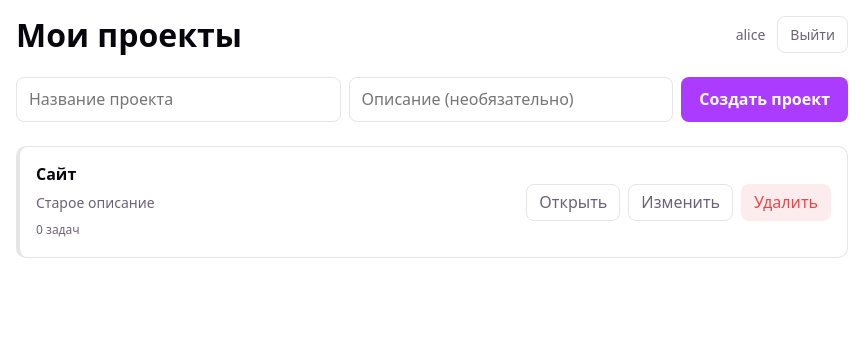
Test: Projects page › edits a project and reflects the update in the card
Click the button "Изменить" at [681, 202], box [628, 184, 733, 221]
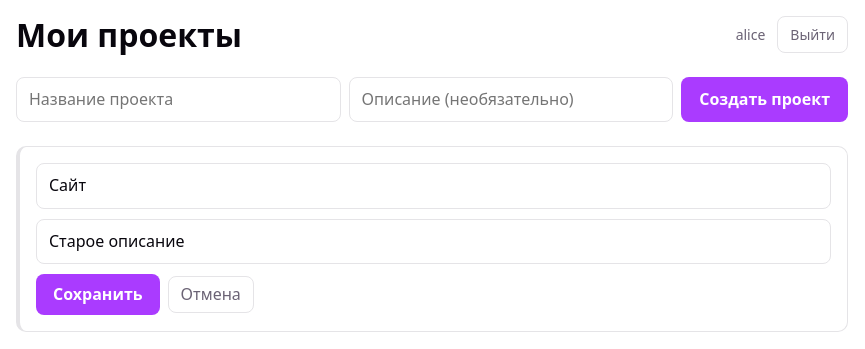
Replace the text in the 1st field with placeholder "Название проекта" with "Новый сайт" at [434, 186], box [36, 163, 831, 209]
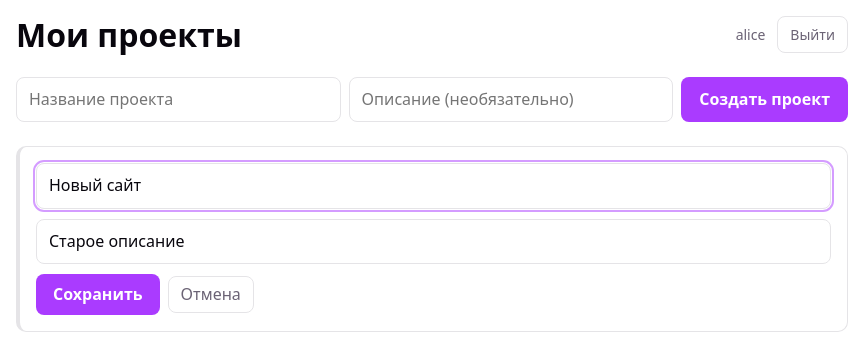
Replace the text in the 2nd field with placeholder "Описание (необязательно)" with "Новое описание" at [434, 241], box [36, 219, 831, 264]
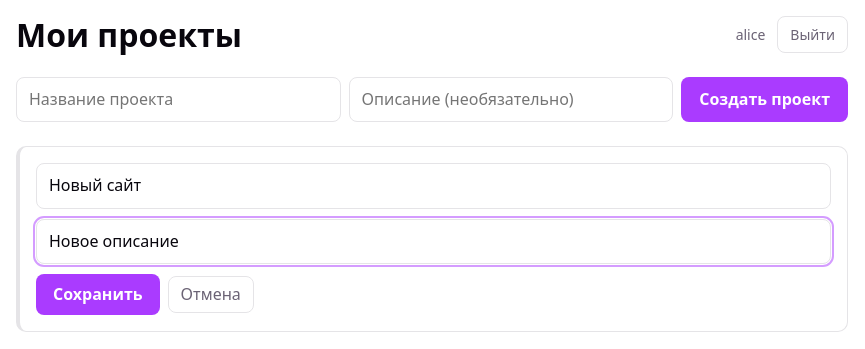
Click the button "Сохранить" at [98, 294], box [36, 274, 160, 315]
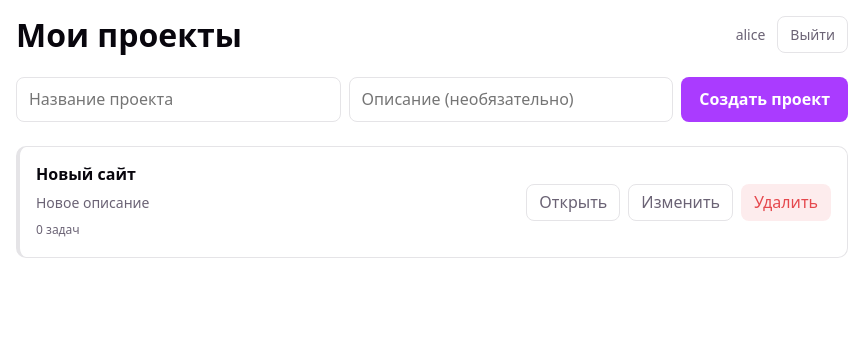
Check: the heading "Новый сайт" is shown, box [36, 163, 150, 187]
Check: the text "Новое описание" is shown, box [36, 191, 150, 214]
